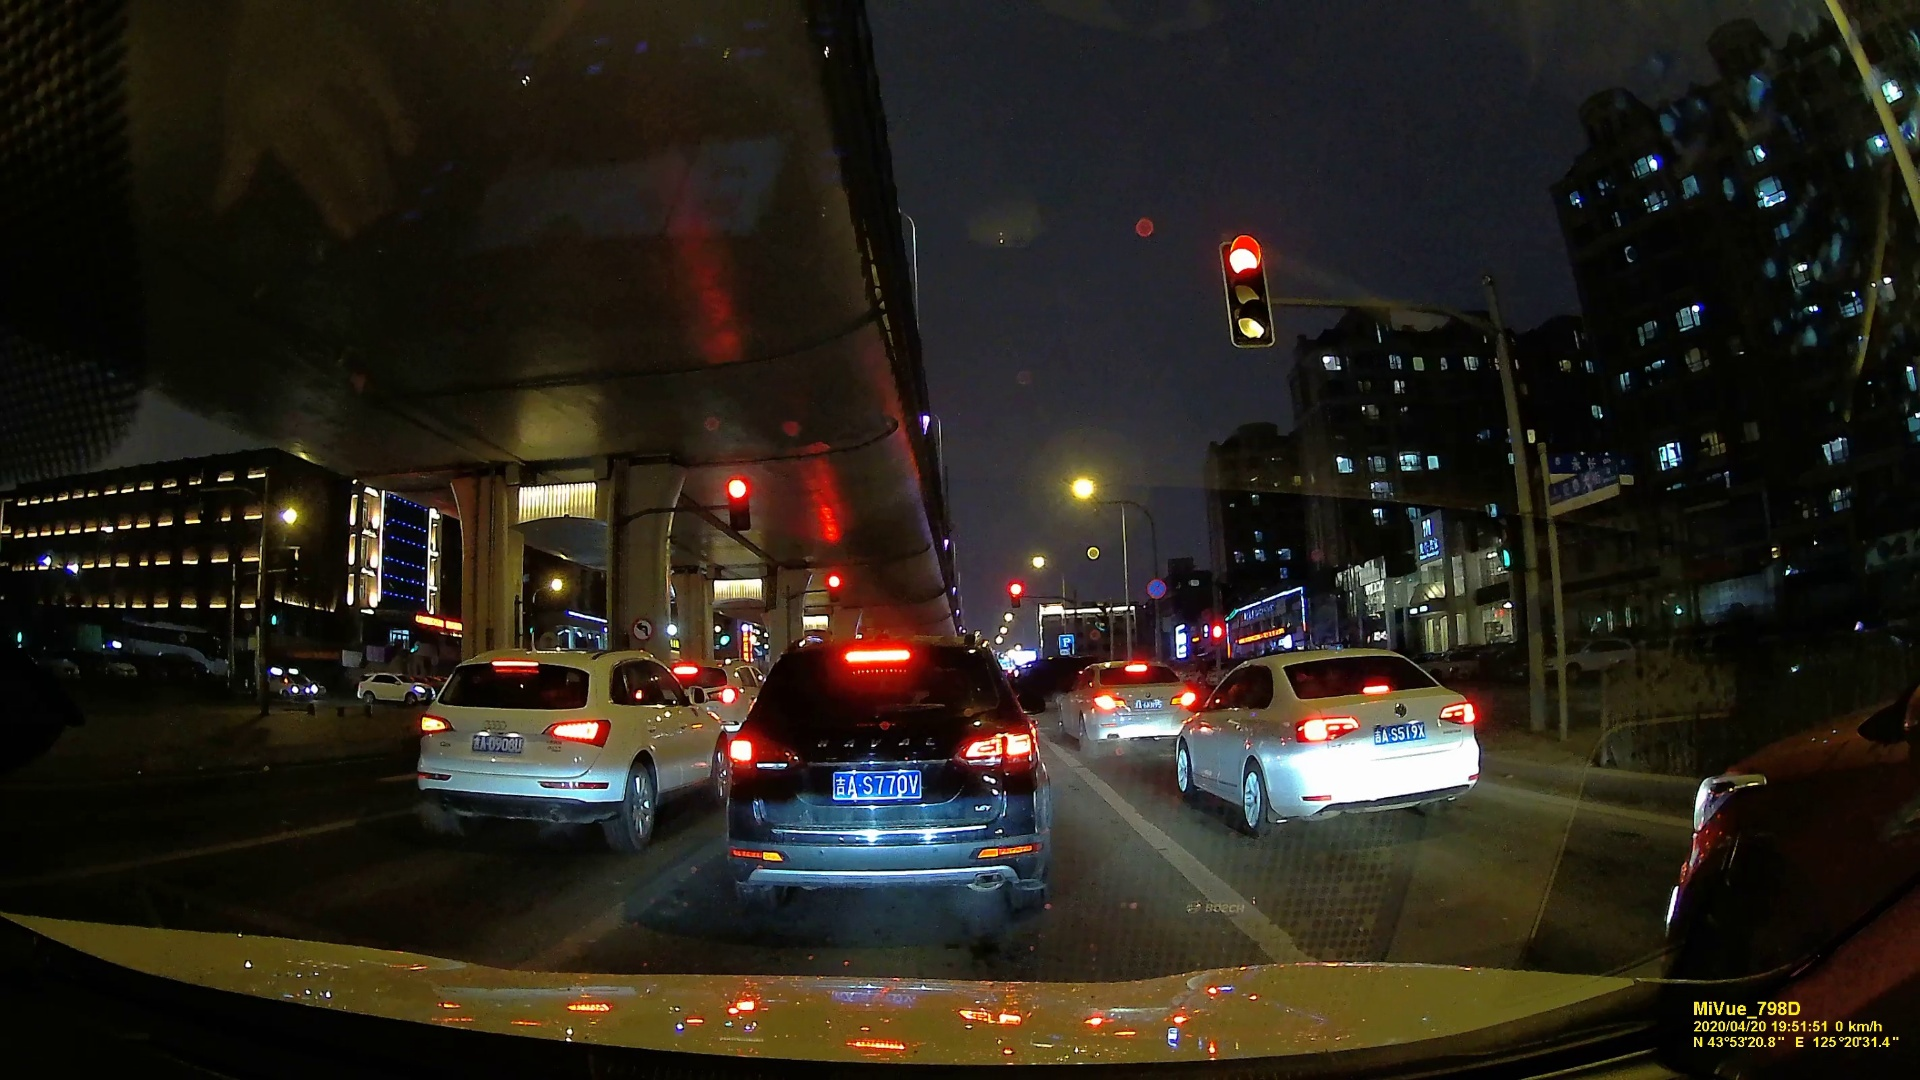traffic_sign: (1224, 235, 1279, 351), (1549, 464, 1622, 505), (1485, 500, 1515, 566), (723, 475, 748, 526), (630, 616, 655, 642), (1146, 578, 1168, 603), (825, 574, 843, 603), (1009, 582, 1025, 611)
vehicle: (716, 636, 1050, 920), (415, 647, 733, 858), (1172, 647, 1476, 840), (1058, 662, 1189, 757), (353, 670, 425, 707)
